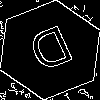D: (25, 25, 80, 81)
